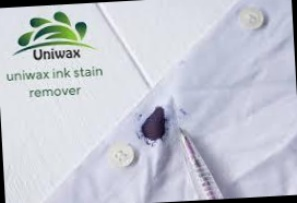ink: (140, 107, 168, 144)
